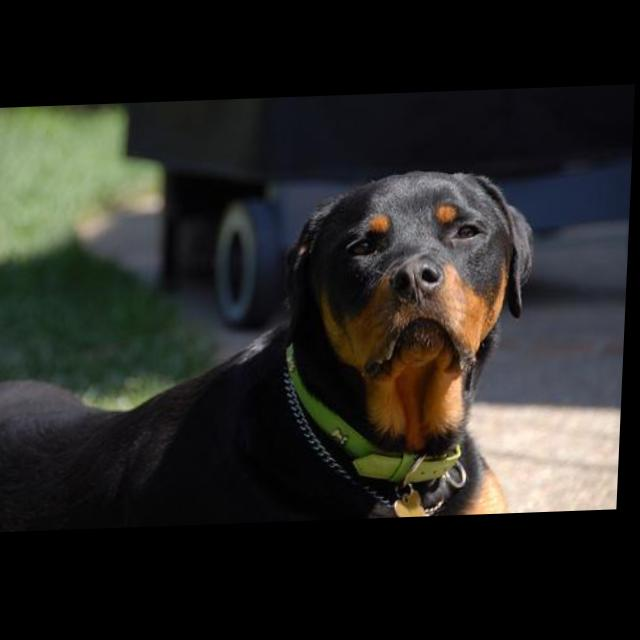rottweiler: (1, 169, 541, 534)
